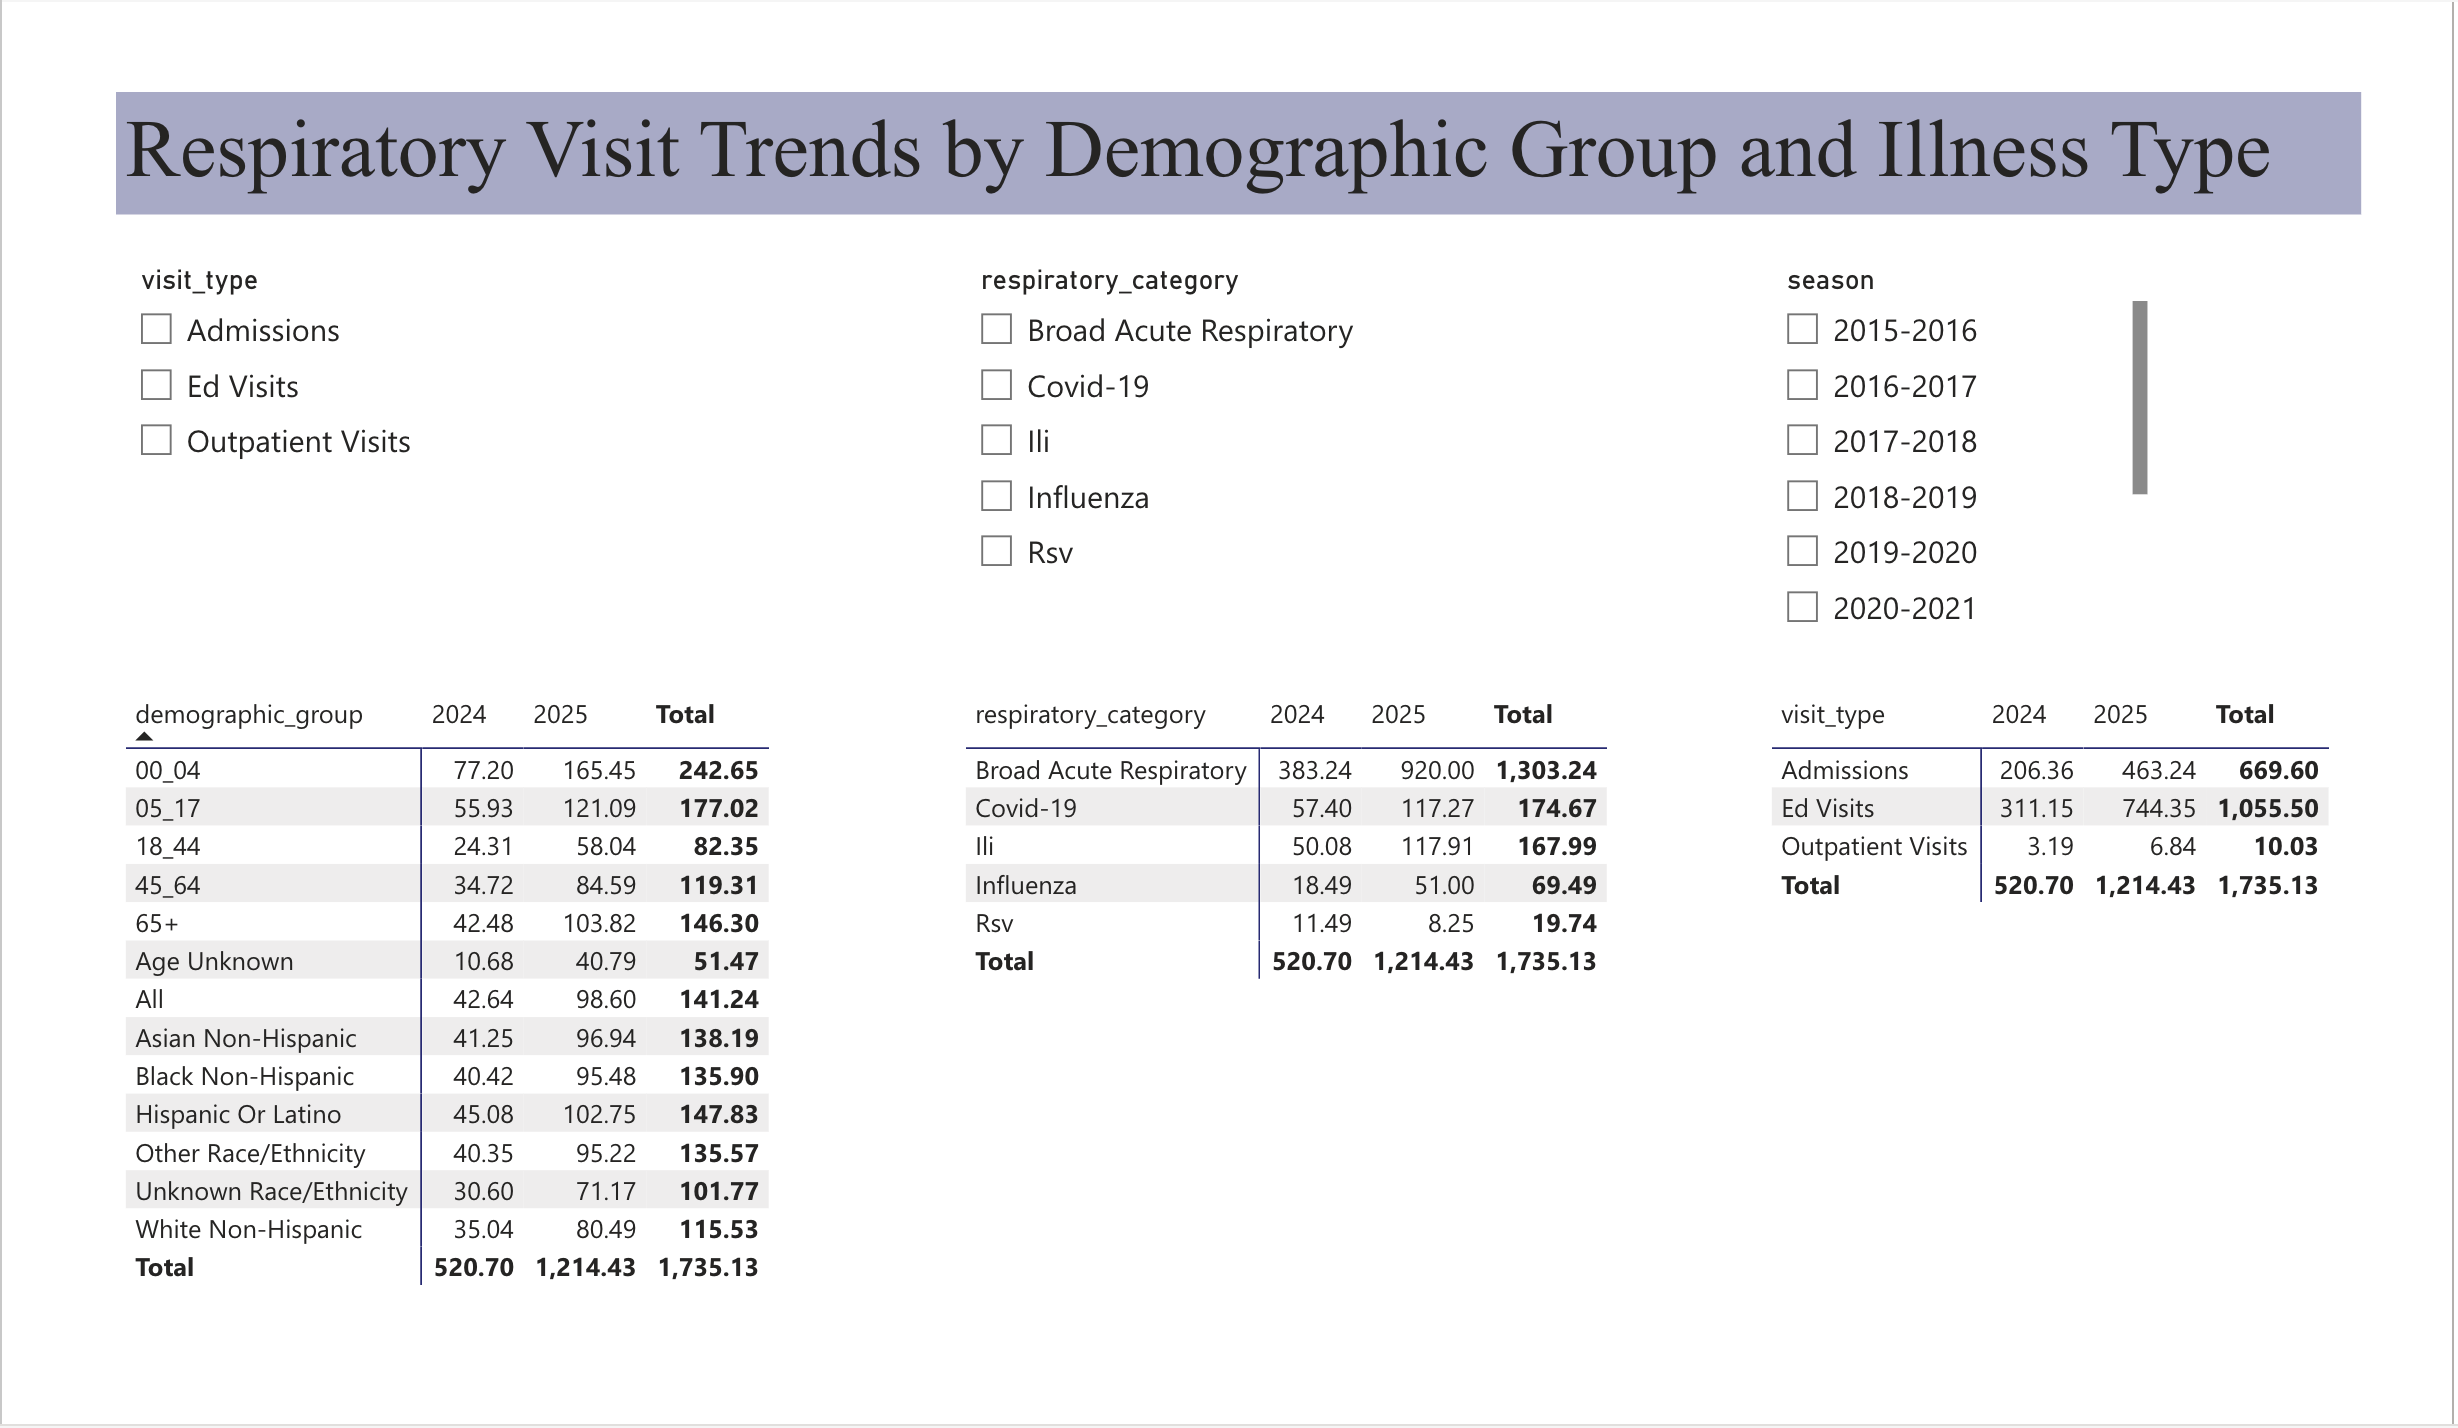

Layout of this report page (visuals, bound fields, positions):
{"tool":"powerbi","page":{"name":"Respiratory Visit Trends by Demographic Group and Illness Type","canvas":[1280,720],"ordinal":1},"visuals":[{"type":"pivotTable","fields":{"Rows":["Inpatient_Respiratory_Visits_Cleaned.demographic_group"],"Values":["Sum(Inpatient_Respiratory_Visits_Cleaned.percent)"],"Columns":["Inpatient_Respiratory_Visits_Cleaned.current_week_ending.Variation.Date Hierarchy.Year","Inpatient_Respiratory_Visits_Cleaned.current_week_ending.Variation.Date Hierarchy.Quarter","Inpatient_Respiratory_Visits_Cleaned.current_week_ending.Variation.Date Hierarchy.Month","Inpatient_Respiratory_Visits_Cleaned.current_week_ending.Variation.Date Hierarchy.Day"]},"box":[59.6,356.3,368.6,341],"z":0},{"type":"pivotTable","fields":{"Columns":["Inpatient_Respiratory_Visits_Cleaned.current_week_ending.Variation.Date Hierarchy.Year","Inpatient_Respiratory_Visits_Cleaned.current_week_ending.Variation.Date Hierarchy.Quarter","Inpatient_Respiratory_Visits_Cleaned.current_week_ending.Variation.Date Hierarchy.Month","Inpatient_Respiratory_Visits_Cleaned.current_week_ending.Variation.Date Hierarchy.Day"],"Rows":["Inpatient_Respiratory_Visits_Cleaned.respiratory_category"],"Values":["Sum(Inpatient_Respiratory_Visits_Cleaned.percent)"]},"box":[498.6,356.3,356.3,191.2],"z":1000},{"type":"pivotTable","fields":{"Values":["Sum(Inpatient_Respiratory_Visits_Cleaned.percent)"],"Rows":["Inpatient_Respiratory_Visits_Cleaned.visit_type"],"Columns":["Inpatient_Respiratory_Visits_Cleaned.current_week_ending.Variation.Date Hierarchy.Year","Inpatient_Respiratory_Visits_Cleaned.current_week_ending.Variation.Date Hierarchy.Quarter","Inpatient_Respiratory_Visits_Cleaned.current_week_ending.Variation.Date Hierarchy.Month","Inpatient_Respiratory_Visits_Cleaned.current_week_ending.Variation.Date Hierarchy.Day"]},"box":[919.1,356.3,313.5,125.4],"z":2000},{"type":"slicer","fields":{"Values":["Inpatient_Respiratory_Visits_Cleaned.season"]},"box":[919.1,133.1,206.5,200.3],"z":3000},{"type":"slicer","fields":{"Values":["Inpatient_Respiratory_Visits_Cleaned.respiratory_category"]},"box":[498.6,133.1,356.3,172.8],"z":4000},{"type":"slicer","fields":{"Values":["Inpatient_Respiratory_Visits_Cleaned.visit_type"]},"box":[59.6,133.1,368.6,133.1],"z":5000},{"type":"textbox","box":[59.6,47.4,1173,64.2],"z":6000}]}

Visuals, with their boxes on the page's 1280x720 design canvas (x1, y1, x2, y2). These are canvas units, not pixel positions in the 2458x1428 screenshot, which may show the page scaled, cropped or inside an application window:
pivotTable - Inpatient_Respiratory_Visits_Cleaned.demographic_group x Sum(Inpatient_Respiratory_Visits_Cleaned.percent): (60,356,428,697)
pivotTable - Inpatient_Respiratory_Visits_Cleaned.current_week_ending.Variation.Date Hierarchy.Year x Inpatient_Respiratory_Visits_Cleaned.current_week_ending.Variation.Date Hierarchy.Quarter: (499,356,855,548)
pivotTable - Sum(Inpatient_Respiratory_Visits_Cleaned.percent) x Inpatient_Respiratory_Visits_Cleaned.visit_type: (919,356,1233,482)
slicer - Inpatient_Respiratory_Visits_Cleaned.season: (919,133,1126,333)
slicer - Inpatient_Respiratory_Visits_Cleaned.respiratory_category: (499,133,855,306)
slicer - Inpatient_Respiratory_Visits_Cleaned.visit_type: (60,133,428,266)
textbox: (60,47,1233,112)
